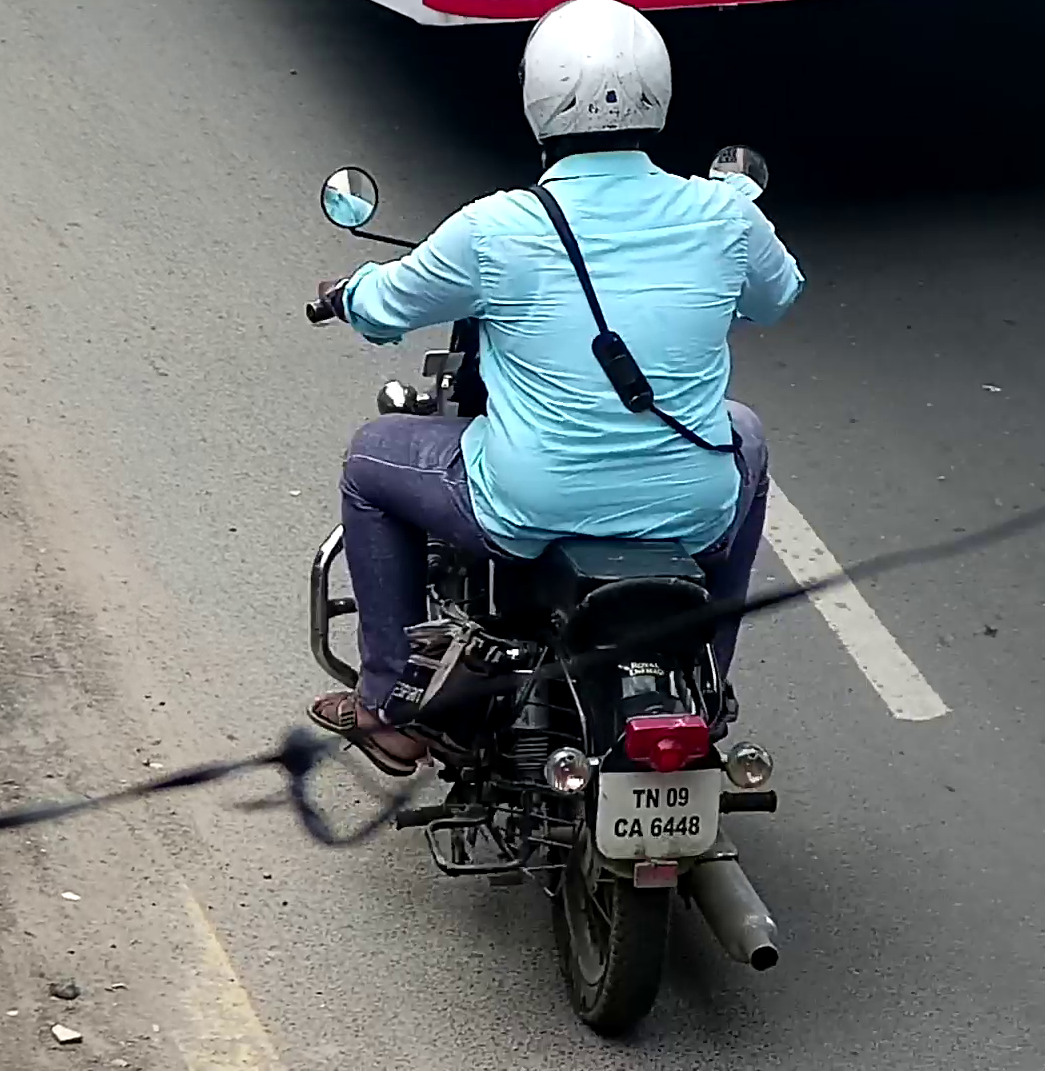0: (667, 787, 677, 808)
4: (675, 815, 688, 836), (662, 816, 675, 836)
6: (650, 816, 662, 837)
8: (688, 815, 700, 836)
9: (678, 786, 689, 807)
A: (629, 817, 644, 838)
C: (614, 818, 628, 838)
N: (646, 787, 660, 809)
P16: (594, 768, 724, 861)
T: (632, 789, 645, 809)
